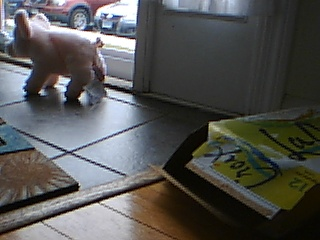piggy: (5, 8, 108, 102)
